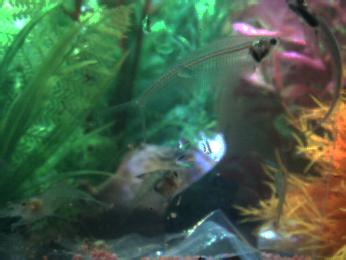X-ray fish: (121, 167, 184, 218), (271, 165, 288, 225)
glassfish: (99, 34, 282, 129), (283, 1, 345, 138)
siberian prawn: (1, 178, 113, 229), (53, 229, 187, 257)
